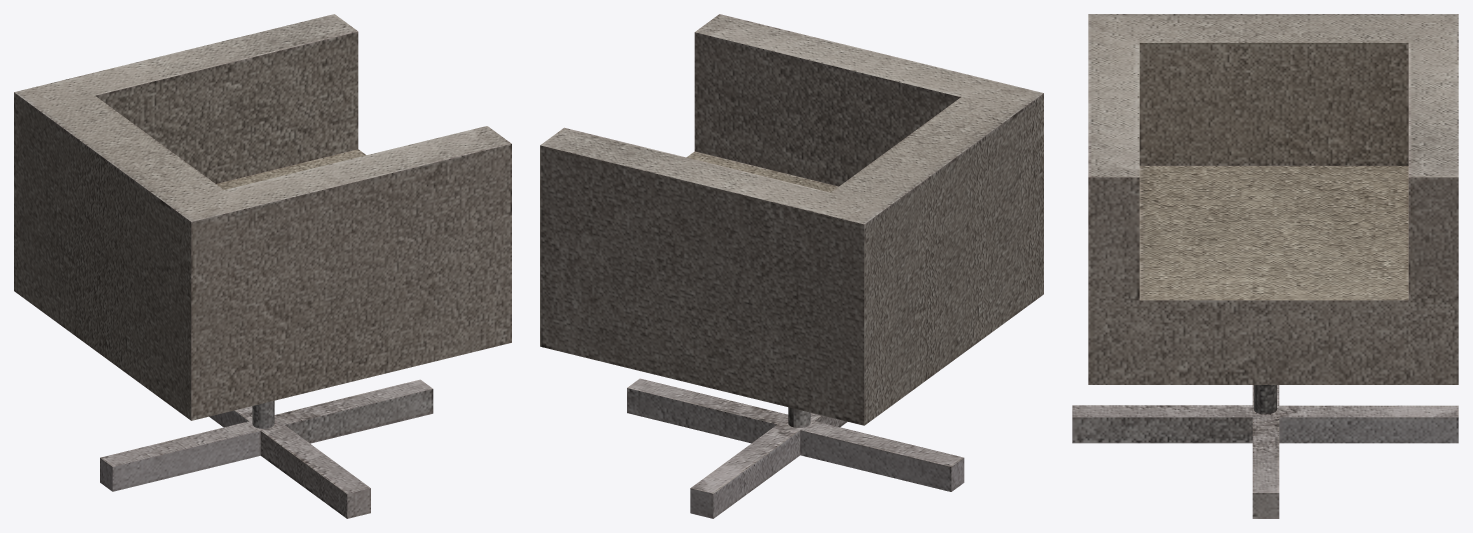
The picture shows the model from 3 angles, left to right: view 1: azimuth 30°, elevation 25°; view 2: azimuth 150°, elevation 25°; view 3: azimuth 270°, elevation 25°; orthographic projection. The views are drawn at different scales.
Visible parts, largest first — view 1: Node; view 2: Node; view 3: Node.
Boxes of the visible parts, x1,y1,x2,y2 form: Node: (14,14,511,518); Node: (540,14,1043,518); Node: (1072,14,1458,518).
Bounding box in the file's own units: 0.7 × 0.6833 × 0.7.
Materials: 1 (1 with a texture image).
